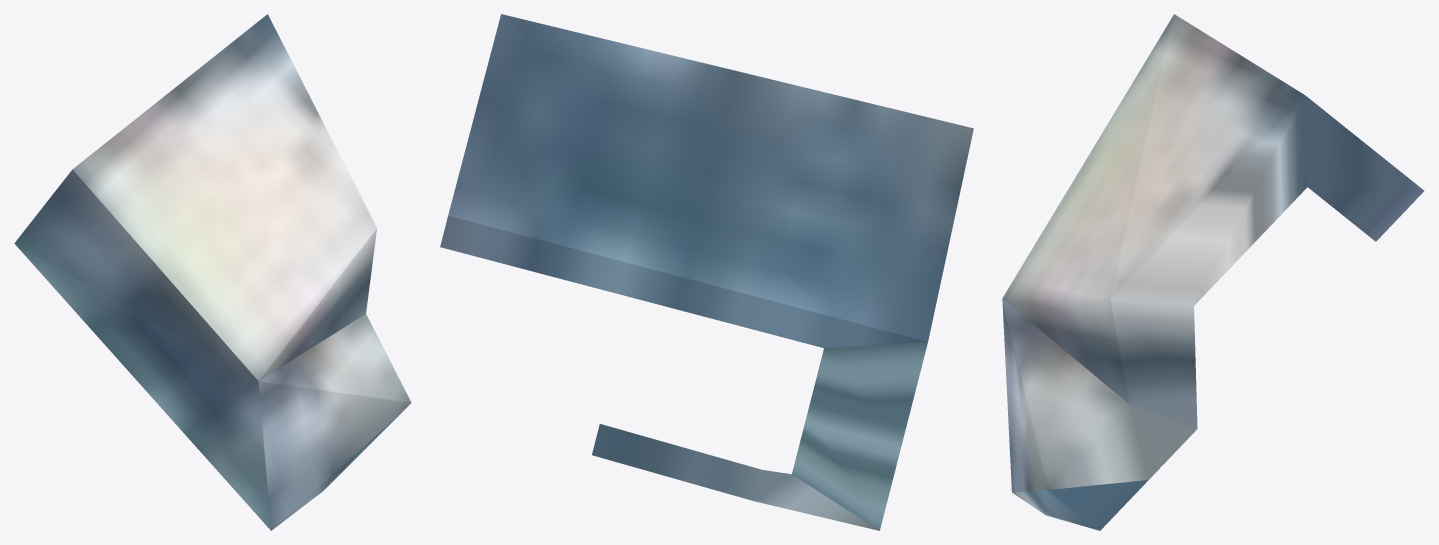
Rendered from AJVsH2y4CaWfqCZkIB2Jx2bjXa6QQpY0_uhq8XxIGEBgCQEYDgPEyPX9HSPnazd9udp4XUKp8J7nCf5QSGOv9VOSN06rok3mpZY48n6OXB_H-Pr-O4pqzbk_vAfXlKSn_NXQxlDJvAAKkHp0qJCoBOY034I6dQGUPg.glb.
3 views of the same model, side by side, from view 1: azimuth 30°, elevation 25°; view 2: azimuth 150°, elevation 25°; view 3: azimuth 270°, elevation 25° (orthographic). The views are drawn at different scales.
Size of the model in its own units: 21 by 26.49 by 21.71.
Materials: 1 (1 with a texture image).
